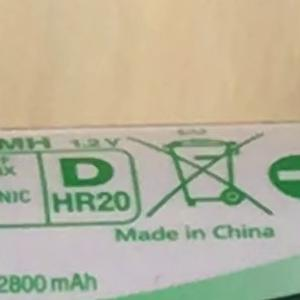keyword: (45, 182, 137, 221)
